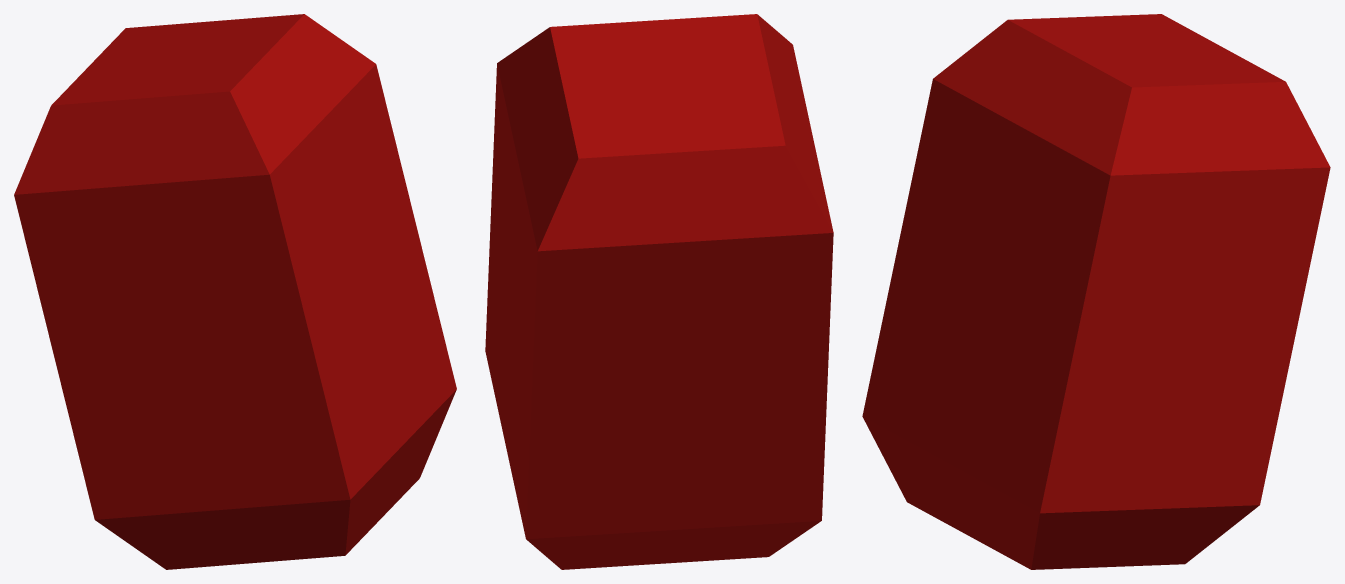
The model's file is town_jewel0003.obj.
3 renders of one model, left to right at view 1: azimuth 30°, elevation 25°; view 2: azimuth 150°, elevation 25°; view 3: azimuth 270°, elevation 25°, orthographic. The views are drawn at different scales.
Parts seen in each view (by area): view 1: RedJewel; view 2: RedJewel; view 3: RedJewel.
Boxes of the visible parts, <box> form: RedJewel: <box>14,14,456,569</box>; RedJewel: <box>485,14,833,569</box>; RedJewel: <box>862,14,1330,569</box>.
Bounding box in the file's own units: 1.01 × 1.21 × 1.04.
